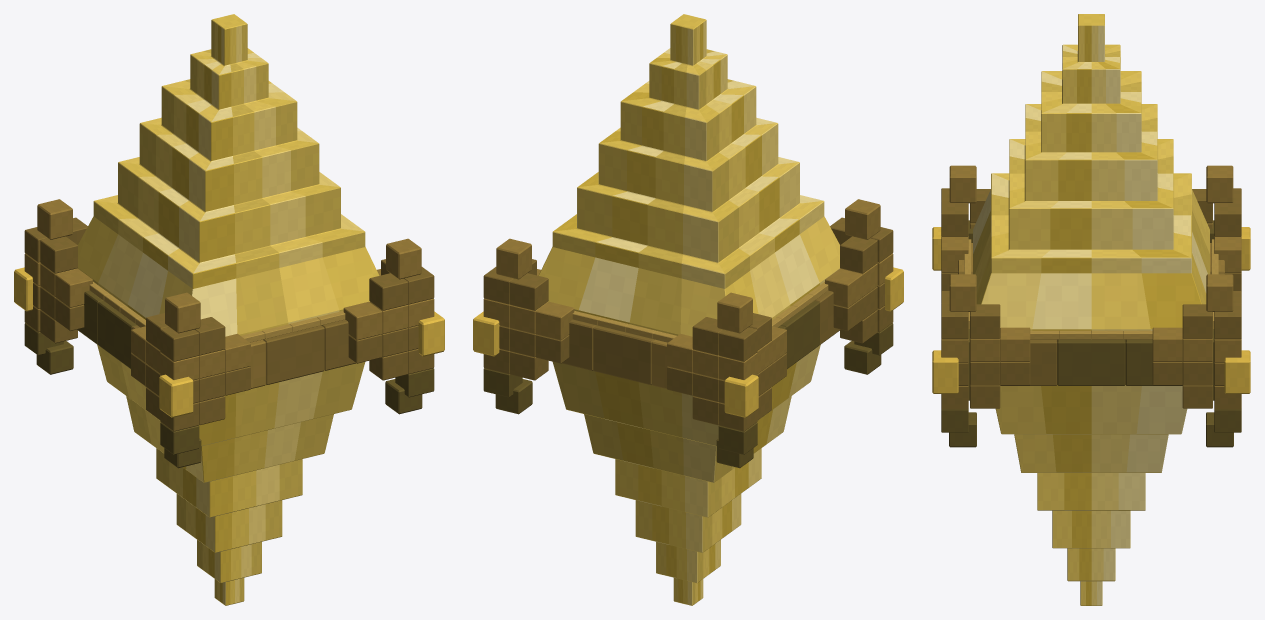
File: SM_HP_TrailPrism_LOD1.fbx
3 views of the same model, side by side, from view 1: azimuth 30°, elevation 25°; view 2: azimuth 150°, elevation 25°; view 3: azimuth 270°, elevation 25° (orthographic).
Parts seen in each view (by area): view 1: SM_HP_TrailPrism_LOD1; view 2: SM_HP_TrailPrism_LOD1; view 3: SM_HP_TrailPrism_LOD1.
Boxes of the visible parts, bbox=[...] form: SM_HP_TrailPrism_LOD1: bbox=[14, 14, 444, 605]; SM_HP_TrailPrism_LOD1: bbox=[473, 14, 903, 605]; SM_HP_TrailPrism_LOD1: bbox=[932, 14, 1250, 605].
Size of the model in its own units: 55.49 by 55.49 by 112.
3 materials, 3 textured.
